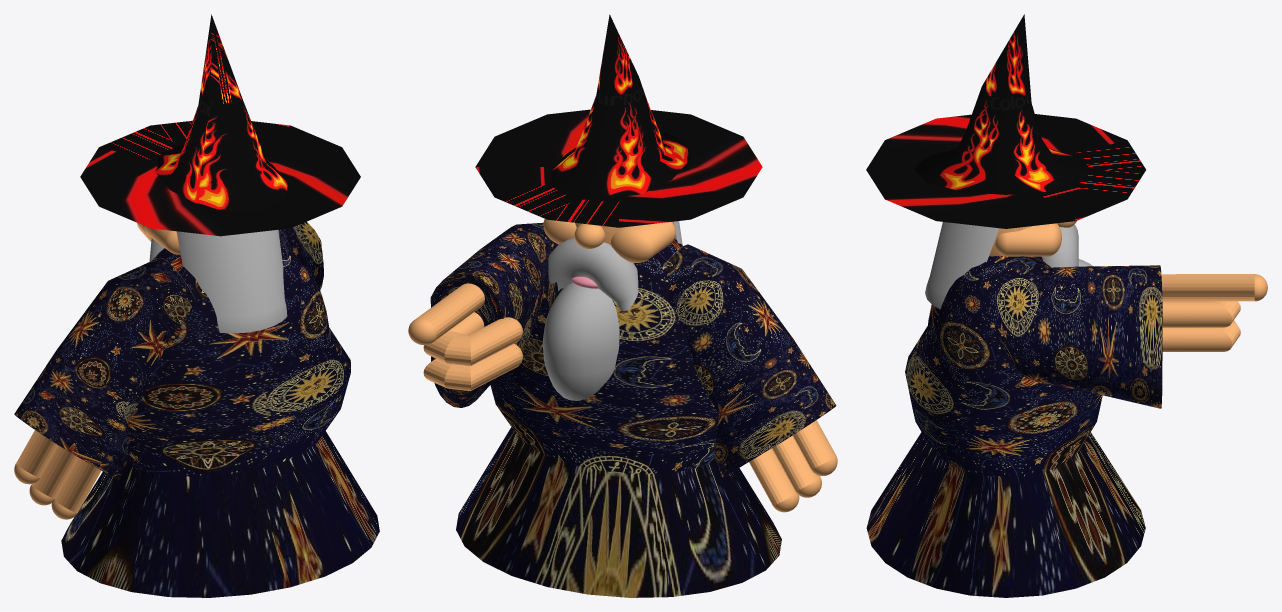
The model's file is cartoon-wizard.fbx.
3 views of the same model, side by side, from view 1: azimuth 30°, elevation 25°; view 2: azimuth 150°, elevation 25°; view 3: azimuth 270°, elevation 25° (orthographic). The views are drawn at different scales.
Visible parts, largest first — view 1: Sphere13, Cone, Merged_Meshes1, Sphere4, Merged_Meshes, Merged_Meshes7, Merged_Meshes5, Merged_Meshes6, Sphere5; view 2: Sphere13, Cone, Merged_Meshes1, Merged_Meshes, Merged_Meshes4, Sphere3, Torus, Sphere5, Merged_Meshes7, Merged_Meshes5, Merged_Meshes6, Sphere1 (+1 smaller); view 3: Sphere13, Cone, Merged_Meshes, Merged_Meshes4, Sphere4, Sphere6, Torus.
Boxes of the visible parts, x1,y1,x2,y2 form: Sphere13: (61, 243, 379, 597); Cone: (80, 14, 360, 236); Merged_Meshes1: (14, 257, 195, 479); Sphere4: (176, 230, 287, 333); Merged_Meshes: (278, 221, 323, 290); Merged_Meshes7: (51, 458, 100, 519); Merged_Meshes5: (29, 445, 78, 505); Merged_Meshes6: (14, 430, 58, 484); Sphere5: (144, 226, 180, 254); Sphere13: (456, 239, 781, 597); Cone: (475, 14, 762, 227); Merged_Meshes1: (666, 244, 836, 477); Merged_Meshes: (430, 222, 558, 407); Merged_Meshes4: (408, 283, 522, 390); Sphere3: (542, 283, 619, 400); Torus: (548, 237, 638, 310); Sphere5: (610, 222, 675, 262); Merged_Meshes7: (749, 448, 799, 512); Merged_Meshes5: (772, 435, 821, 497); Merged_Meshes6: (792, 420, 837, 475); Sphere1: (574, 223, 605, 248); Sphere13: (866, 256, 1145, 597); Cone: (866, 14, 1145, 228); Merged_Meshes: (964, 256, 1162, 408); Merged_Meshes4: (1161, 274, 1267, 351); Sphere4: (925, 222, 999, 309); Sphere6: (995, 223, 1061, 256); Torus: (1042, 224, 1078, 267).
Size of the model in its own units: 3.78 by 5.3 by 3.75.
7 materials, 2 textured.
